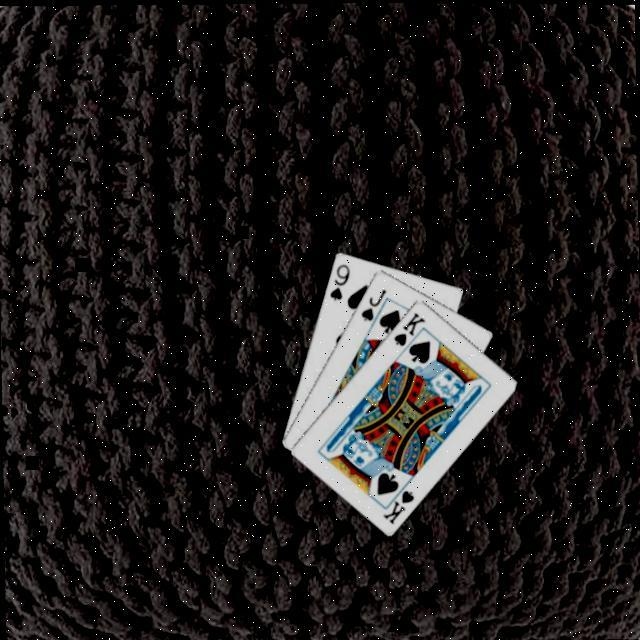9S: (327, 262, 354, 304)
JS: (358, 286, 391, 324)
KS: (381, 480, 418, 527), (391, 309, 430, 350)
